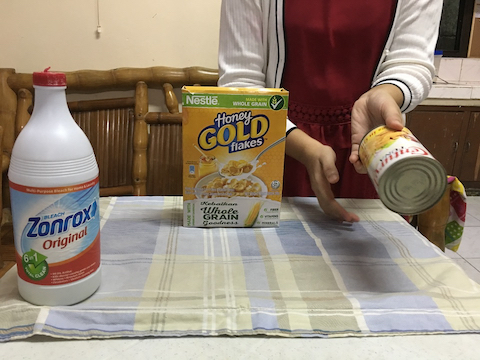bottle: (8, 68, 110, 308)
box: (179, 83, 291, 233)
can: (356, 120, 449, 213)
grab: (347, 91, 405, 179)
